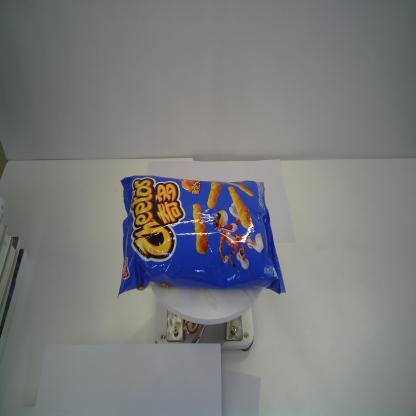Puffed Food: (116, 174, 287, 298)
